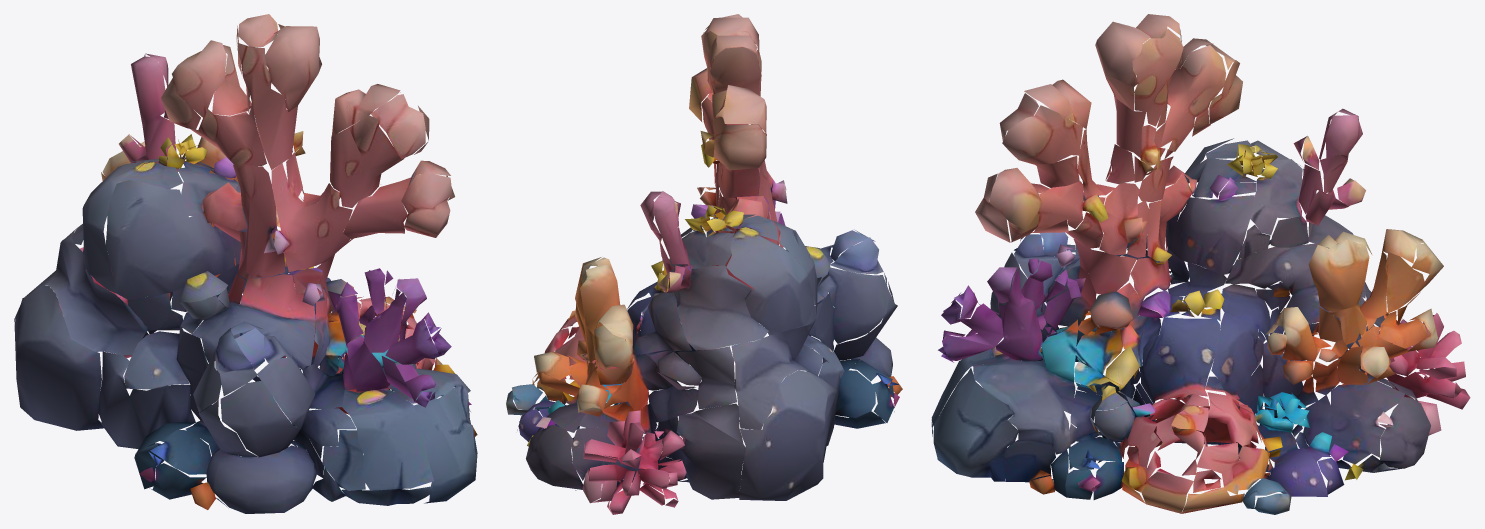
Rendered from coral-reef.glb.
3 views of the same model, side by side, from view 1: azimuth 30°, elevation 25°; view 2: azimuth 150°, elevation 25°; view 3: azimuth 270°, elevation 25° (orthographic). The views are drawn at different scales.
Parts seen in each view (by area): view 1: tripo_node_6478ad07-a899-4972-b22c-d9e73c360ca3; view 2: tripo_node_6478ad07-a899-4972-b22c-d9e73c360ca3; view 3: tripo_node_6478ad07-a899-4972-b22c-d9e73c360ca3.
Boxes of the visible parts, left/top/right/bottom form: tripo_node_6478ad07-a899-4972-b22c-d9e73c360ca3: left=14, top=14, right=477, bottom=513; tripo_node_6478ad07-a899-4972-b22c-d9e73c360ca3: left=506, top=14, right=902, bottom=514; tripo_node_6478ad07-a899-4972-b22c-d9e73c360ca3: left=931, top=14, right=1470, bottom=514.
Bounding box in the file's own units: 0.7687 × 0.8369 × 0.9997.
Materials: 1 (1 with a texture image).
